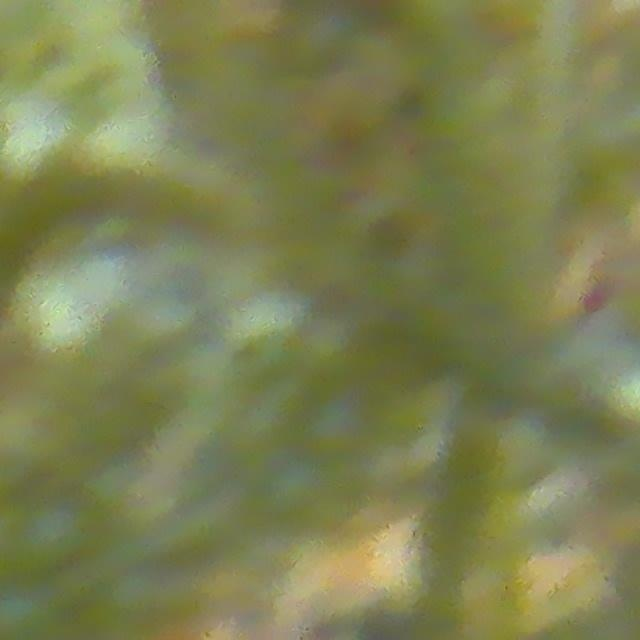SeaGrape: (17, 501, 107, 571), (267, 460, 332, 522), (320, 396, 374, 454)
